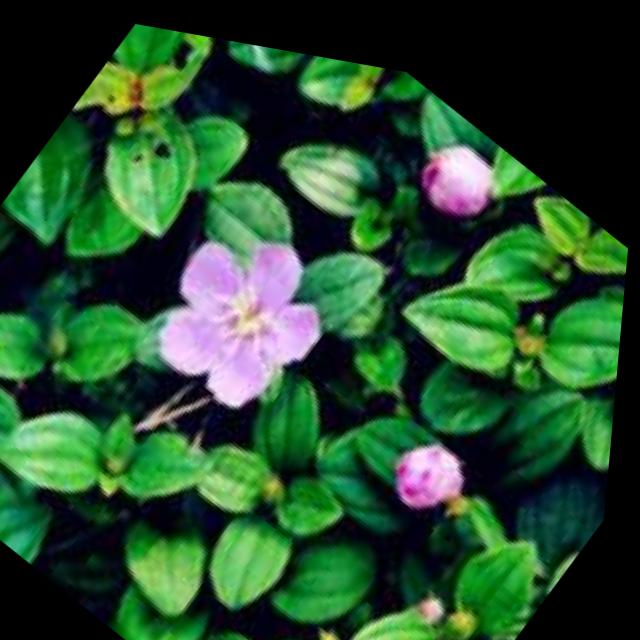Flower: (120, 160, 368, 440), (370, 397, 492, 536), (400, 110, 513, 234)
